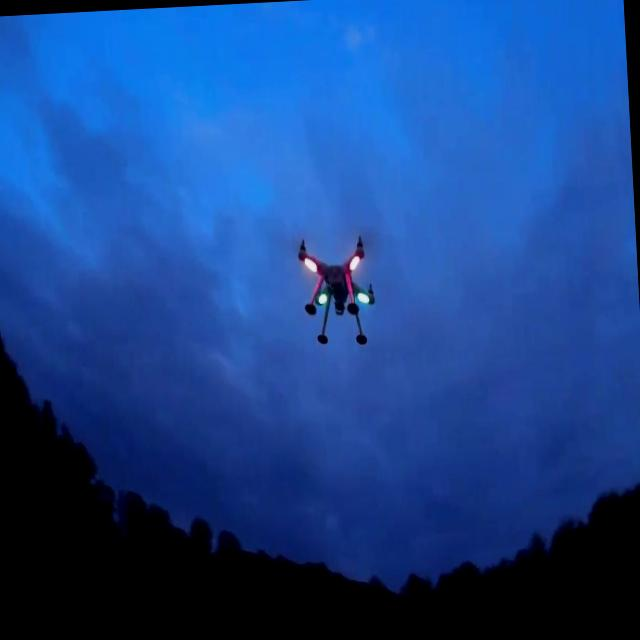drone: (296, 228, 377, 349)
